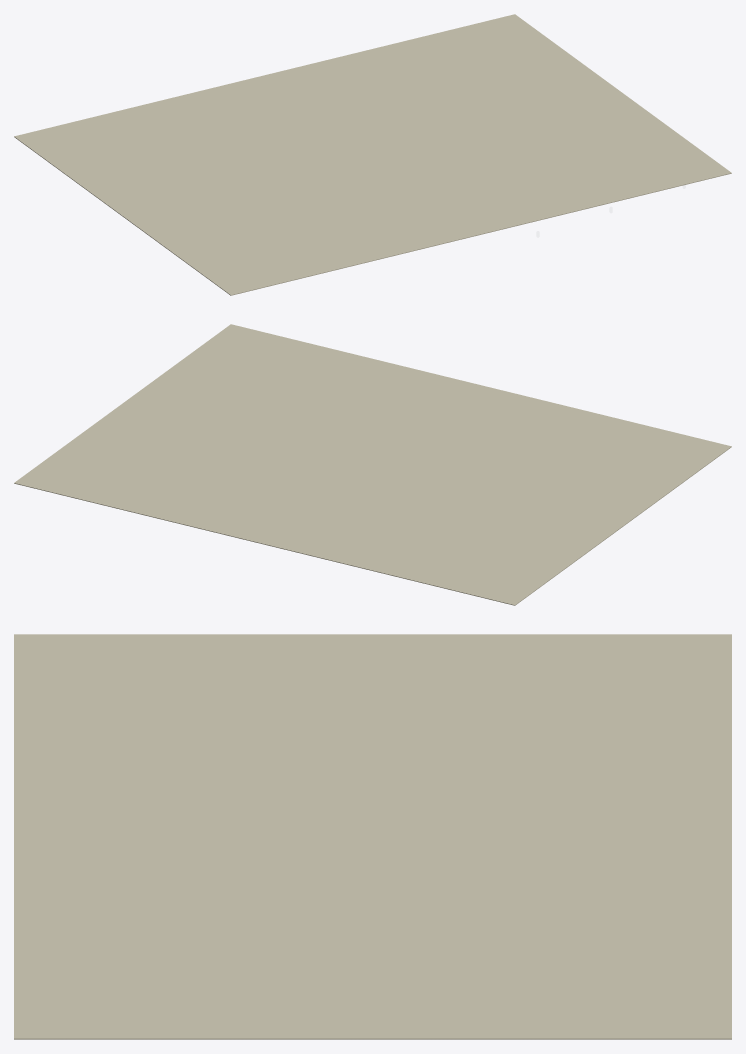
Rendered from C09_PhotoPaper.fbx.
3 views of the same model, one above another, from view 1: azimuth 30°, elevation 25°; view 2: azimuth 150°, elevation 25°; view 3: azimuth 270°, elevation 25° (orthographic). The views are drawn at different scales.
Visible parts, largest first — view 1: PaperSheet; view 2: PaperSheet; view 3: PaperSheet.
Part boxes in pixels (left/top/right/bottom): PaperSheet: left=14, top=14, right=731, bottom=295; PaperSheet: left=14, top=324, right=731, bottom=605; PaperSheet: left=14, top=634, right=731, bottom=1039.
Bounding box in the file's own units: 0.24 × 0.0106 × 0.18.
